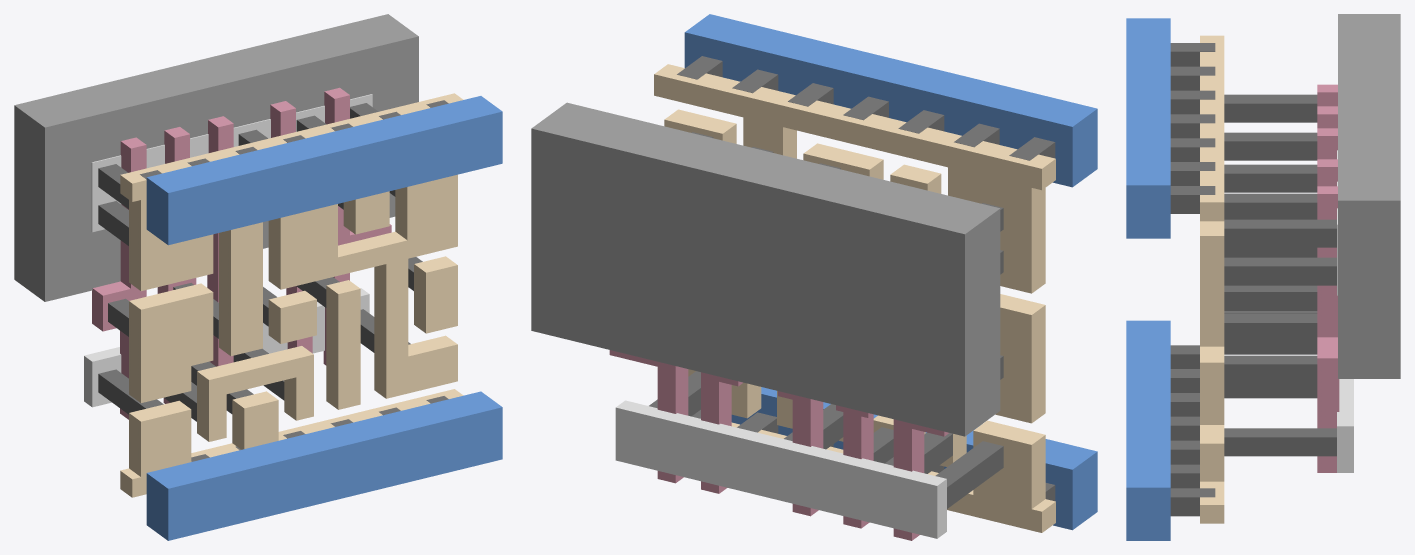
The model's file is sky130_fd_sc_hd__o311ai_0.gds.gltf.
3 views of the same model, side by side, from view 1: azimuth 30°, elevation 25°; view 2: azimuth 150°, elevation 25°; view 3: azimuth 270°, elevation 25° (orthographic). The views are drawn at different scales.
Visible parts, largest first — view 1: sky130_fd_sc_hd__o311ai_0_li1, sky130_fd_sc_hd__o311ai_0_met1, sky130_fd_sc_hd__o311ai_0_nwell, sky130_fd_sc_hd__o311ai_0_poly, sky130_fd_sc_hd__o311ai_0_licon, sky130_fd_sc_hd__o311ai_0_diff, sky130_fd_sc_hd__o311ai_0_mcon; view 2: sky130_fd_sc_hd__o311ai_0_nwell, sky130_fd_sc_hd__o311ai_0_li1, sky130_fd_sc_hd__o311ai_0_met1, sky130_fd_sc_hd__o311ai_0_diff, sky130_fd_sc_hd__o311ai_0_poly, sky130_fd_sc_hd__o311ai_0_licon, sky130_fd_sc_hd__o311ai_0_mcon; view 3: sky130_fd_sc_hd__o311ai_0_licon, sky130_fd_sc_hd__o311ai_0_nwell, sky130_fd_sc_hd__o311ai_0_met1, sky130_fd_sc_hd__o311ai_0_mcon, sky130_fd_sc_hd__o311ai_0_li1, sky130_fd_sc_hd__o311ai_0_poly, sky130_fd_sc_hd__o311ai_0_diff.
Part boxes in pixels (box(x1,y1,x2,y2)): sky130_fd_sc_hd__o311ai_0_li1: box(120, 93, 463, 497); sky130_fd_sc_hd__o311ai_0_met1: box(146, 96, 502, 540); sky130_fd_sc_hd__o311ai_0_nwell: box(14, 14, 418, 301); sky130_fd_sc_hd__o311ai_0_poly: box(92, 87, 391, 419); sky130_fd_sc_hd__o311ai_0_licon: box(98, 103, 422, 421); sky130_fd_sc_hd__o311ai_0_diff: box(84, 94, 372, 407); sky130_fd_sc_hd__o311ai_0_mcon: box(140, 100, 448, 461); sky130_fd_sc_hd__o311ai_0_nwell: box(531, 102, 1000, 436); sky130_fd_sc_hd__o311ai_0_li1: box(654, 64, 1055, 532); sky130_fd_sc_hd__o311ai_0_met1: box(684, 14, 1097, 530); sky130_fd_sc_hd__o311ai_0_diff: box(615, 400, 946, 538); sky130_fd_sc_hd__o311ai_0_poly: box(609, 350, 948, 540); sky130_fd_sc_hd__o311ai_0_licon: box(649, 132, 1003, 508); sky130_fd_sc_hd__o311ai_0_mcon: box(677, 56, 1055, 501); sky130_fd_sc_hd__o311ai_0_licon: box(1224, 94, 1336, 456); sky130_fd_sc_hd__o311ai_0_nwell: box(1338, 14, 1400, 378); sky130_fd_sc_hd__o311ai_0_met1: box(1126, 18, 1170, 540); sky130_fd_sc_hd__o311ai_0_mcon: box(1170, 43, 1215, 516); sky130_fd_sc_hd__o311ai_0_li1: box(1200, 35, 1224, 523); sky130_fd_sc_hd__o311ai_0_poly: box(1317, 84, 1339, 472); sky130_fd_sc_hd__o311ai_0_diff: box(1337, 150, 1353, 472).
Bounding box in the file's own units: 3.6 × 3.2 × 2.24.
